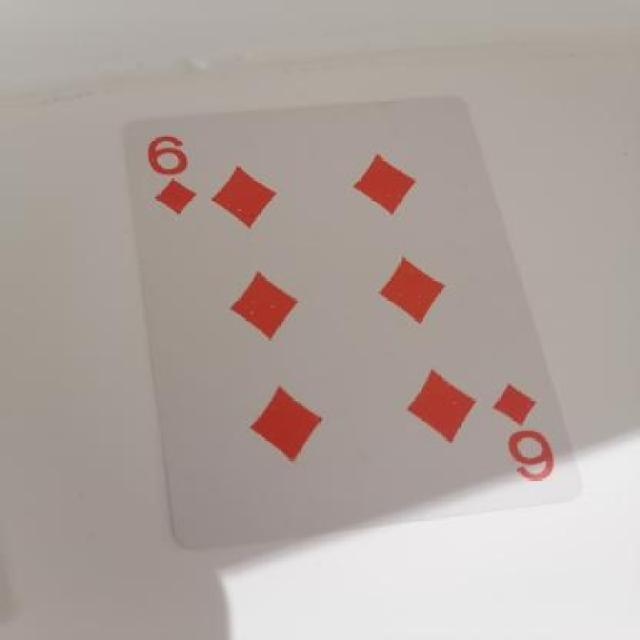6D: (474, 372, 568, 480), (136, 126, 212, 226)
